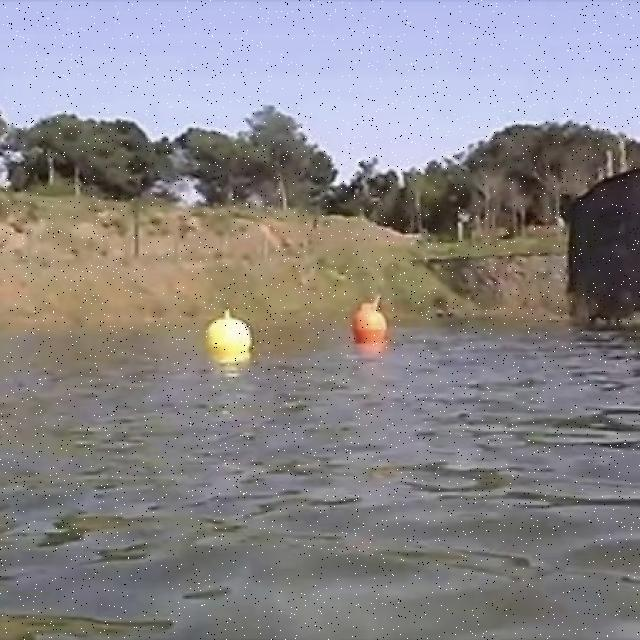buoy: (207, 308, 252, 358), (353, 303, 388, 343)
